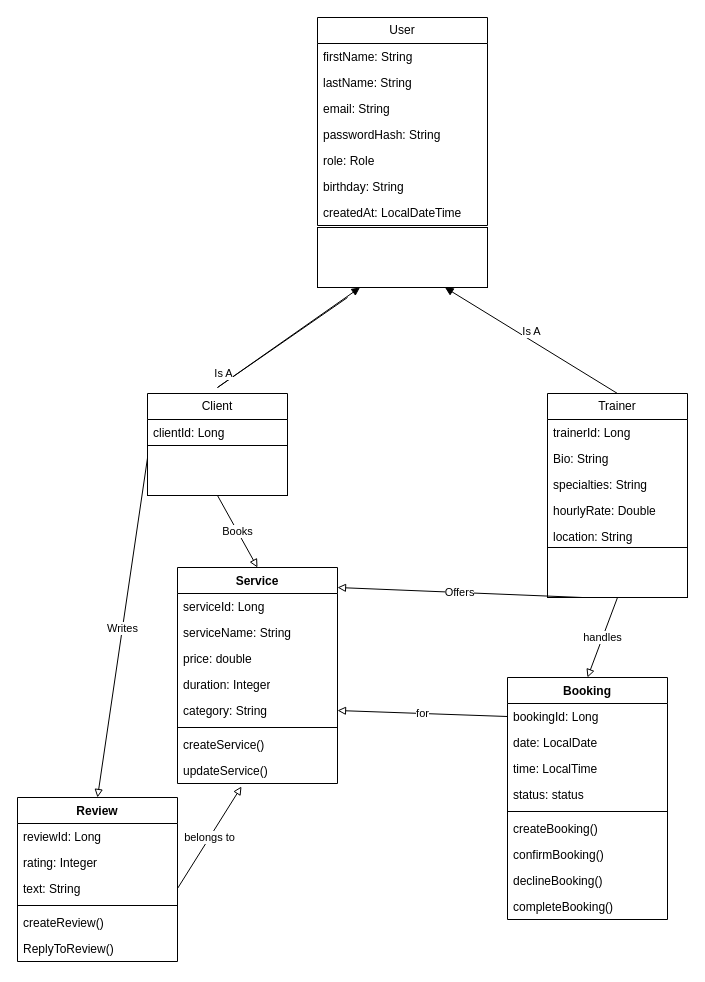
Image size: 705x982. Some labels were removed from this diagram. Each missing label, with the centre of its shape:
"browseServices()" goes at point (217, 470).
"createUser() updateUser() login() signup()" goes at point (402, 257).
"updateProfile() replyToReviews()" goes at point (617, 572).
